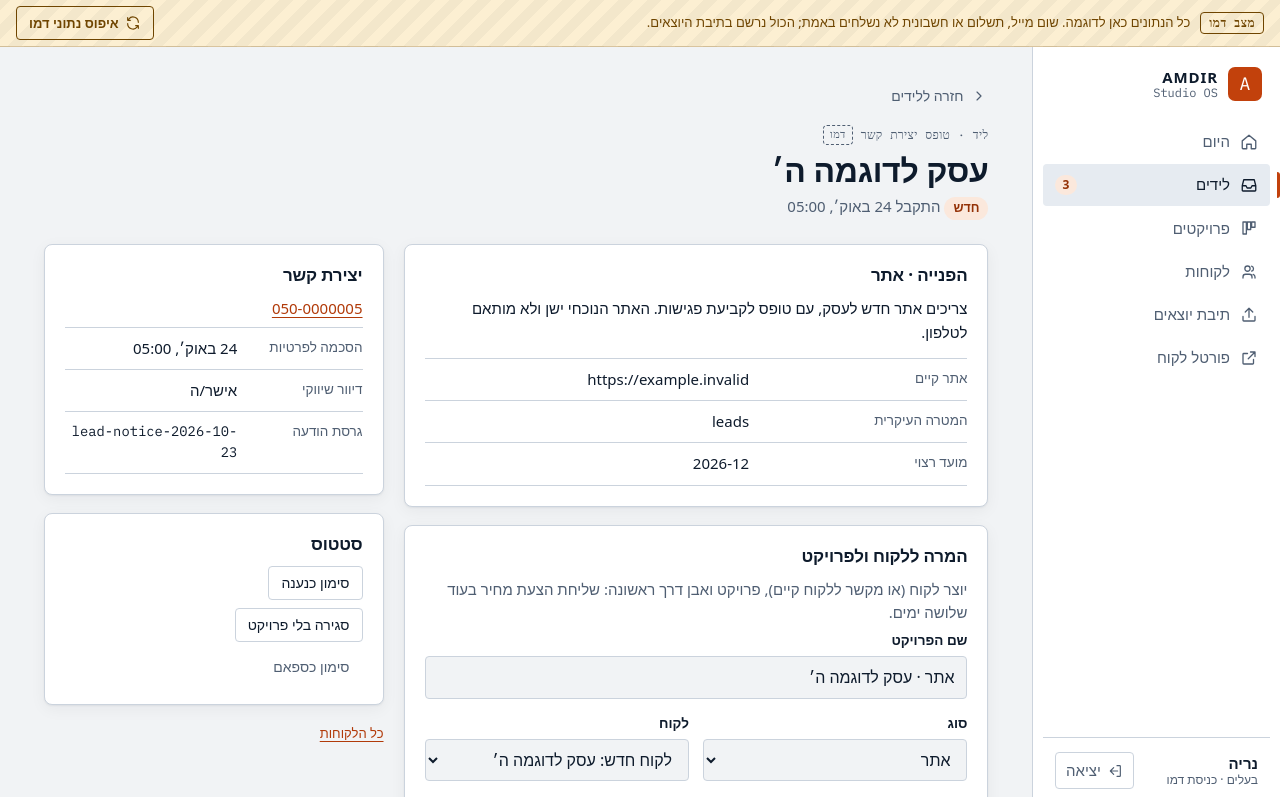
Test: projects board (keyboard-operable) › lead conversion lands on the board with the new card focused
The width and height of the screenshot is (1280, 797).
Later steps or results of the test are not shown.
Clear the field labelled "שם הפרויקט" at {"x": 696, "y": 678}, box [424, 656, 968, 699]
(page scrolled)
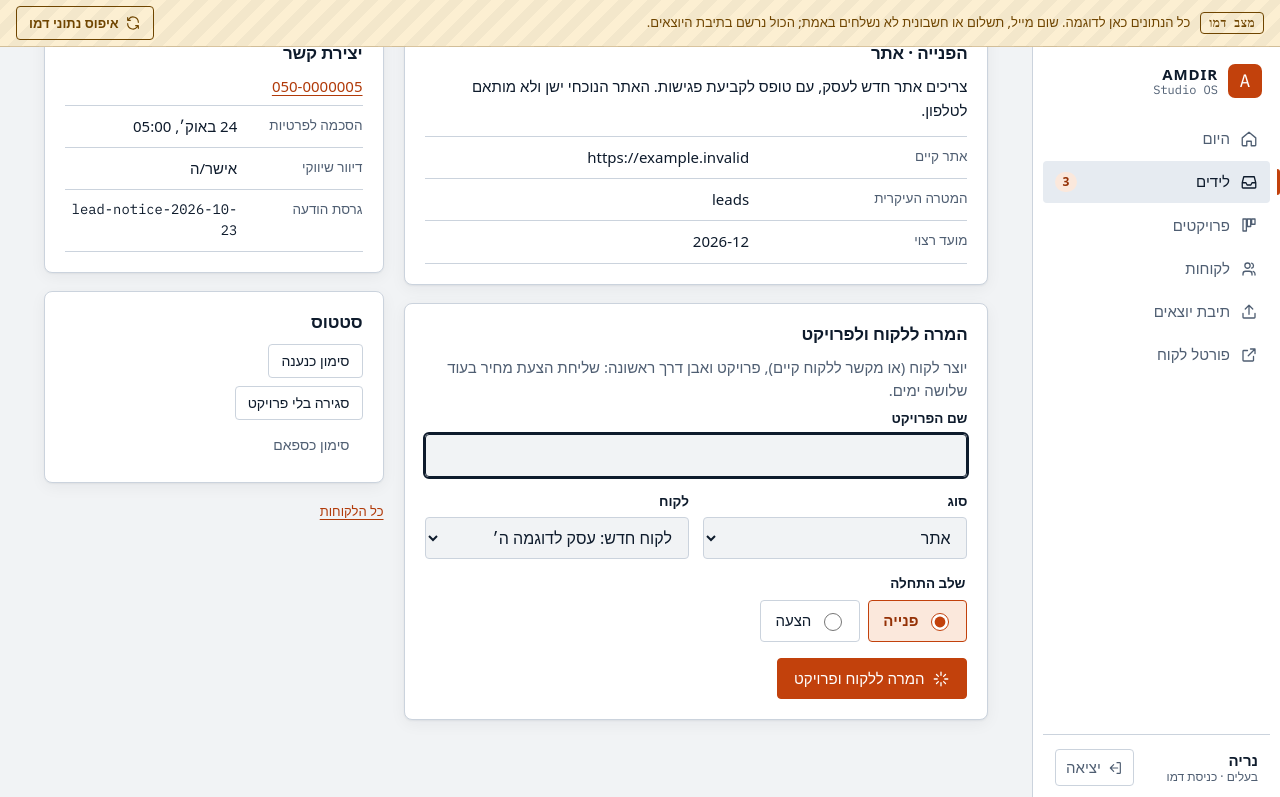
Click the button "המרה ללקוח ופרויקט" at {"x": 872, "y": 679}, box [777, 658, 968, 699]
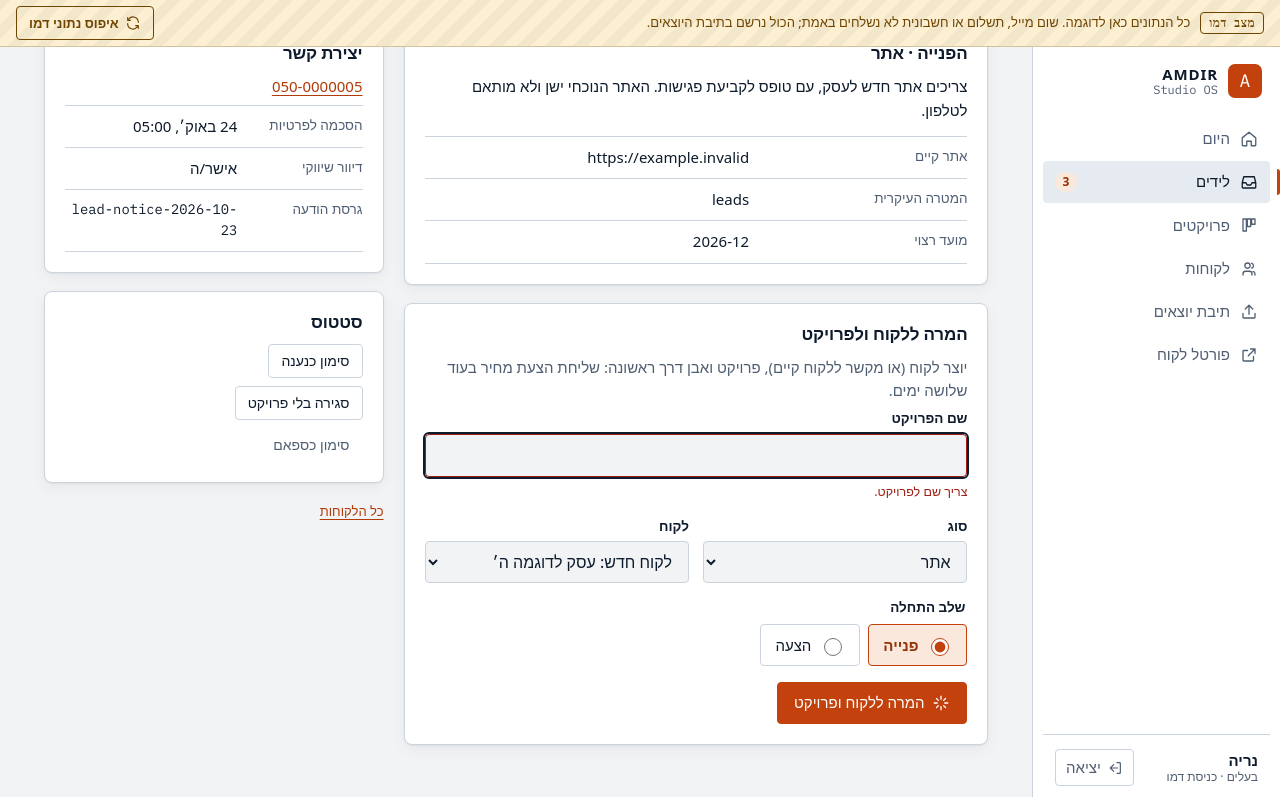
expect the text "צריך שם לפרויקט." is shown: met, box [874, 483, 968, 500]
